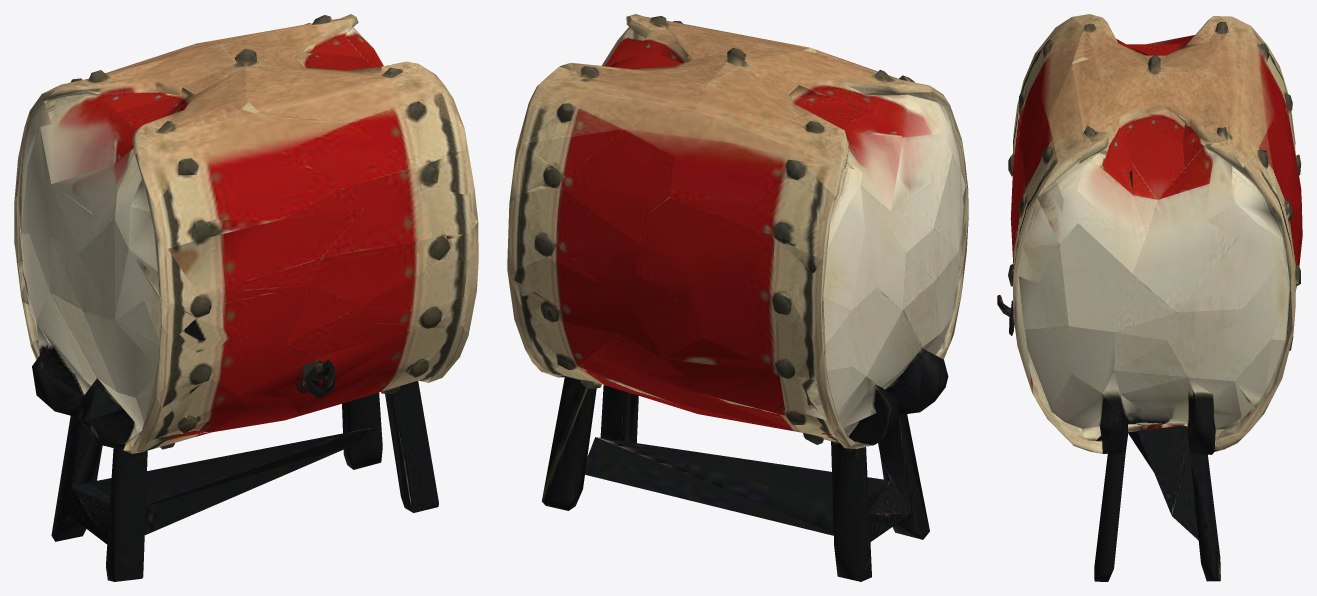
The model's file is drum.glb.
3 views of the same model, side by side, from view 1: azimuth 30°, elevation 25°; view 2: azimuth 150°, elevation 25°; view 3: azimuth 270°, elevation 25° (orthographic). The views are drawn at different scales.
Parts seen in each view (by area): view 1: environment-drum, environment-drum-background; view 2: environment-drum, environment-drum-background; view 3: environment-drum, environment-drum-background.
Part boxes in pixels (box(x1,y1,x2,y2)): environment-drum: box(14, 14, 478, 581); environment-drum-background: box(17, 18, 474, 501); environment-drum: box(507, 14, 968, 581); environment-drum-background: box(510, 16, 965, 442); environment-drum: box(997, 14, 1302, 581); environment-drum-background: box(1006, 28, 1302, 453).
Bounding box in the file's own units: 40 × 49 × 30.
Materials: 1 (1 with a texture image).
